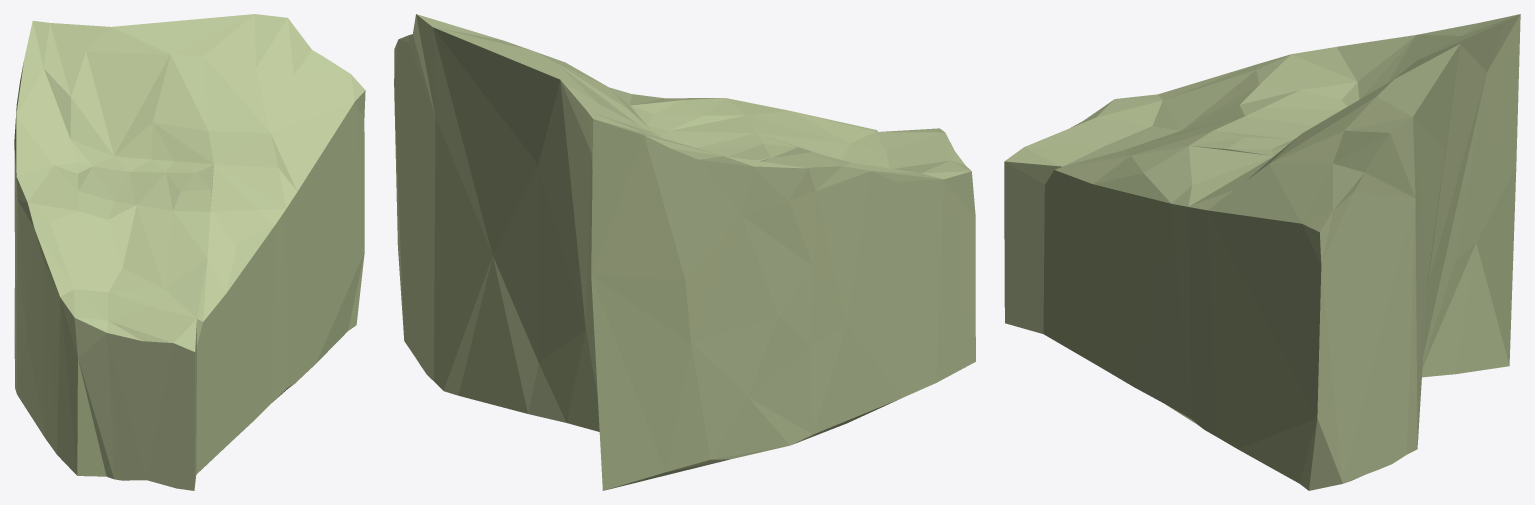
File: ground_19.gltf
The picture shows the model from 3 angles, left to right: view 1: azimuth 30°, elevation 25°; view 2: azimuth 150°, elevation 25°; view 3: azimuth 270°, elevation 25°; orthographic projection. The views are drawn at different scales.
Parts seen in each view (by area): view 1: ilsin; view 2: ilsin; view 3: ilsin.
Boxes of the visible parts, box(x1,y1,x2,y2) form: ilsin: box(14, 14, 365, 490); ilsin: box(394, 14, 975, 490); ilsin: box(1004, 14, 1520, 490).
Size of the model in its own units: 10.06 by 7.69 by 10.17.
